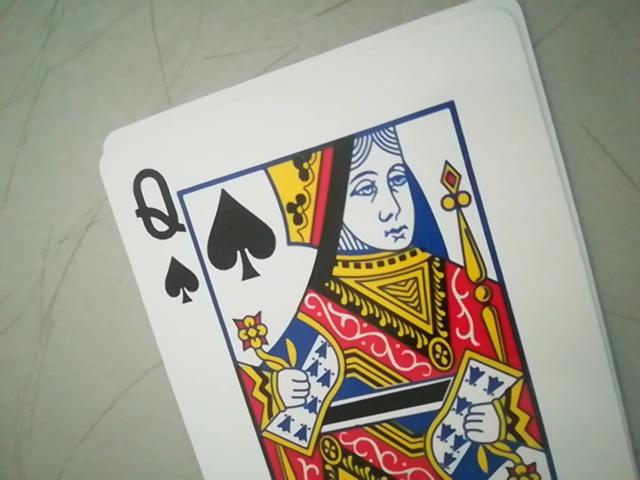ht q: (120, 156, 203, 298)
